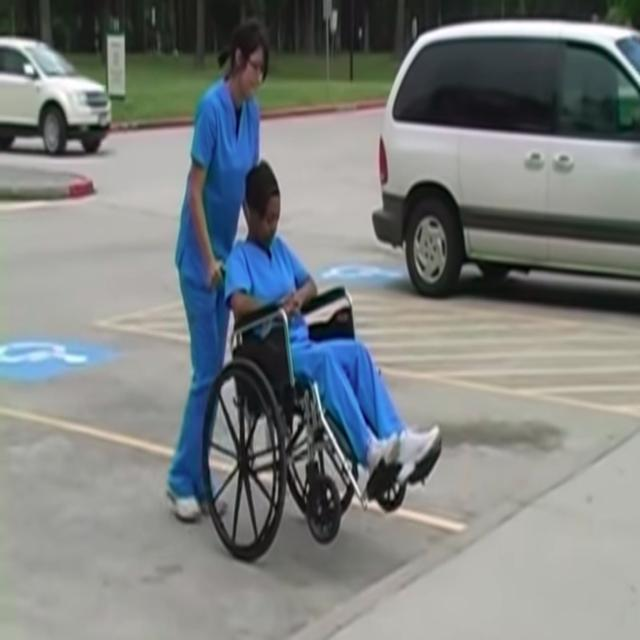wheelchairs: (200, 250, 407, 577)
